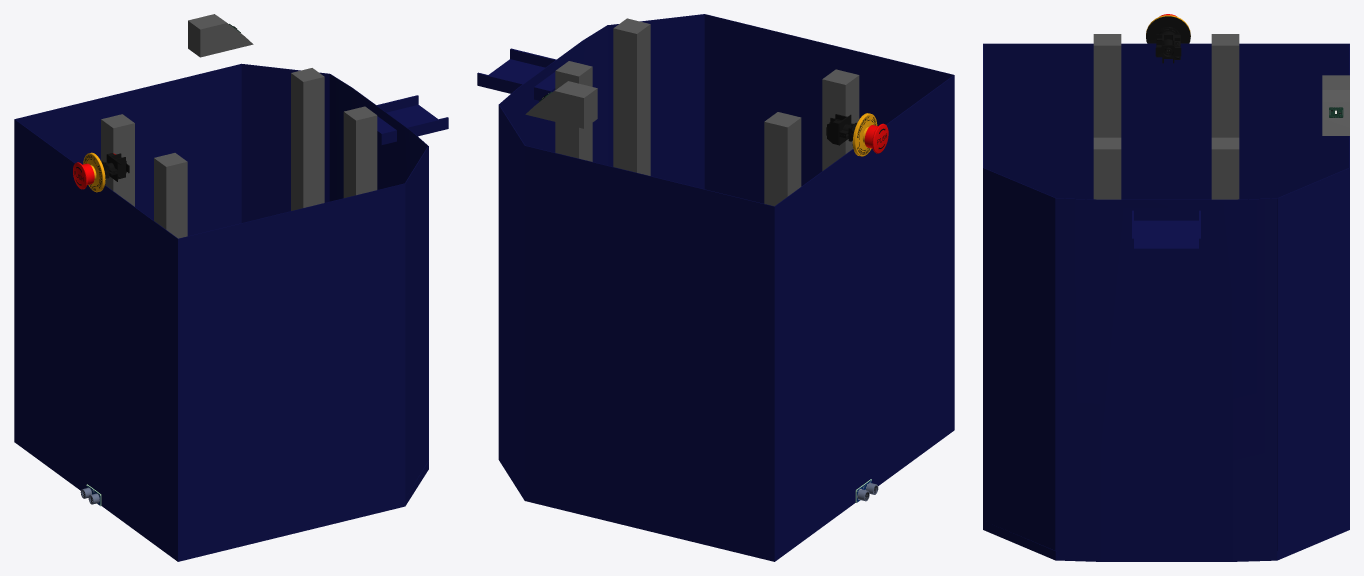
File: lower_body.dae
The picture shows the model from 3 angles, left to right: view 1: azimuth 30°, elevation 25°; view 2: azimuth 150°, elevation 25°; view 3: azimuth 270°, elevation 25°; orthographic projection. The views are drawn at different scales.
Visible parts, largest first — view 1: robot (×3); view 2: robot (×4); view 3: robot (×3).
Part boxes in pixels (x1=…): robot (×3): x1=14, y1=14, x2=448, y2=561; robot (×4): x1=477, y1=14, x2=954, y2=561; robot (×3): x1=983, y1=16, x2=1349, y2=561.
Bounding box in the file's own units: 0.6617 × 0.53 × 0.7025.
